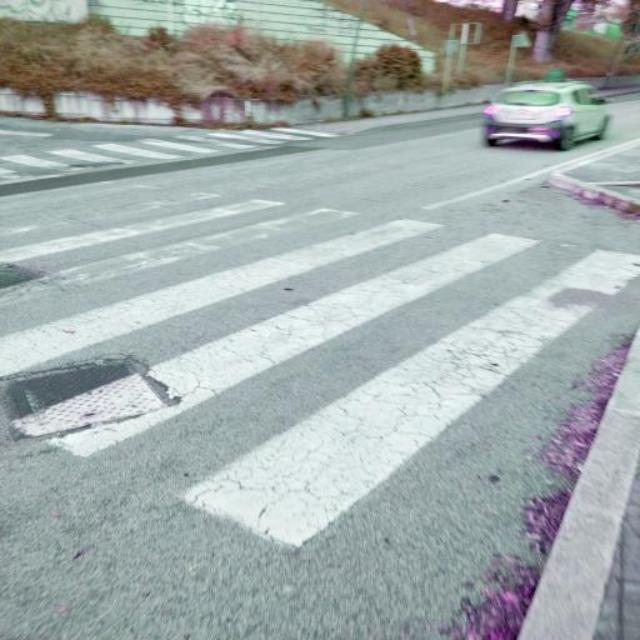sidewalk: (3, 178, 636, 560)
